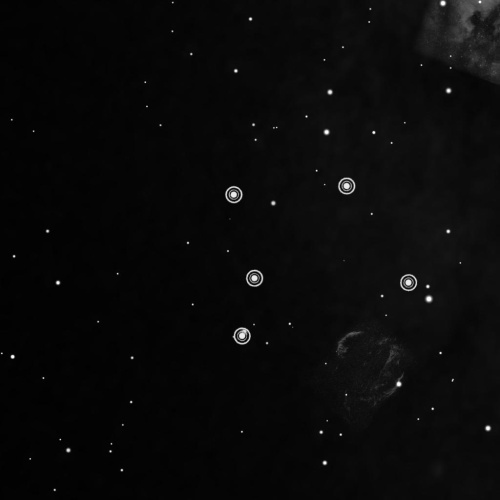libra: (215, 172, 425, 353)
